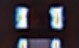COMP: (10, 2, 68, 34)
GAP: (16, 15, 64, 48)
